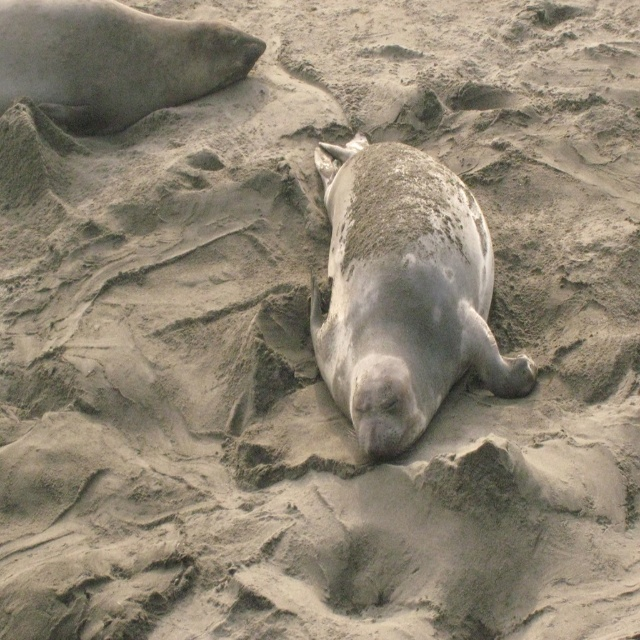Harbor seal: (306, 125, 540, 457), (0, 0, 267, 137)
